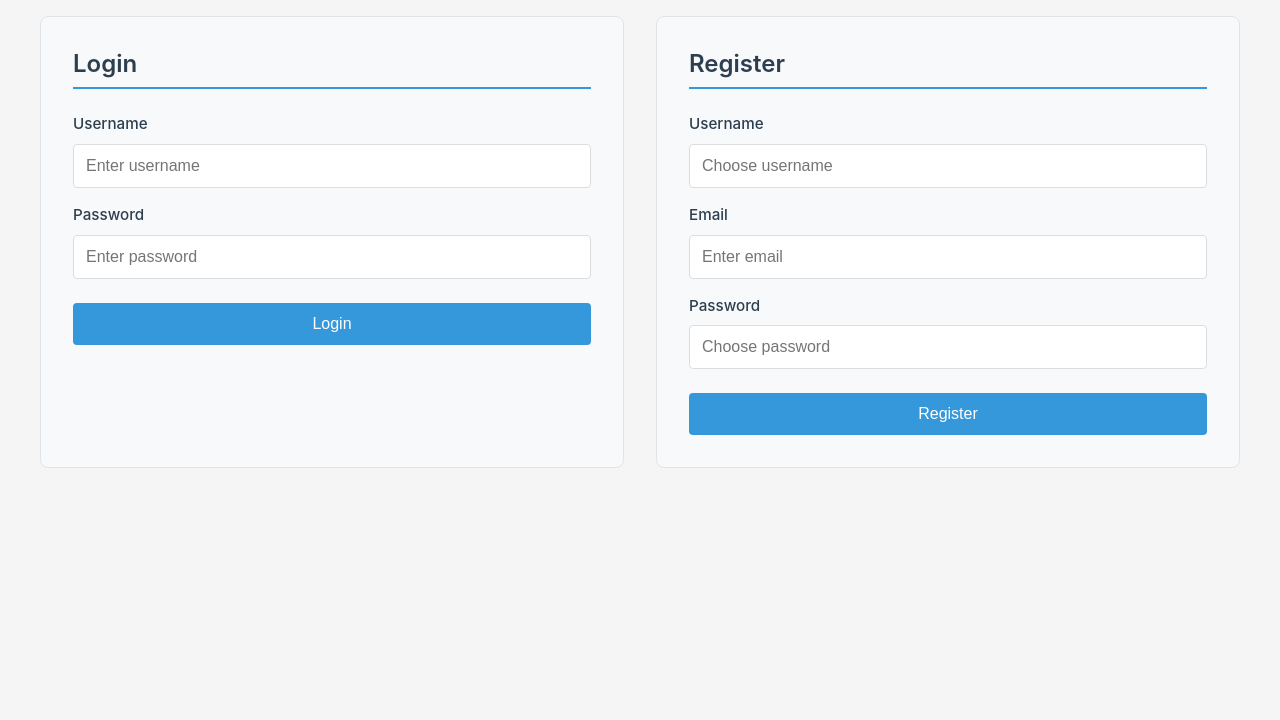
AuthComponent › displays error message on failed registration
Note: Fill in registration form
Type "existinguser" into the field with id "register-username". click: (948, 166)
box: [689,144,1207,188]
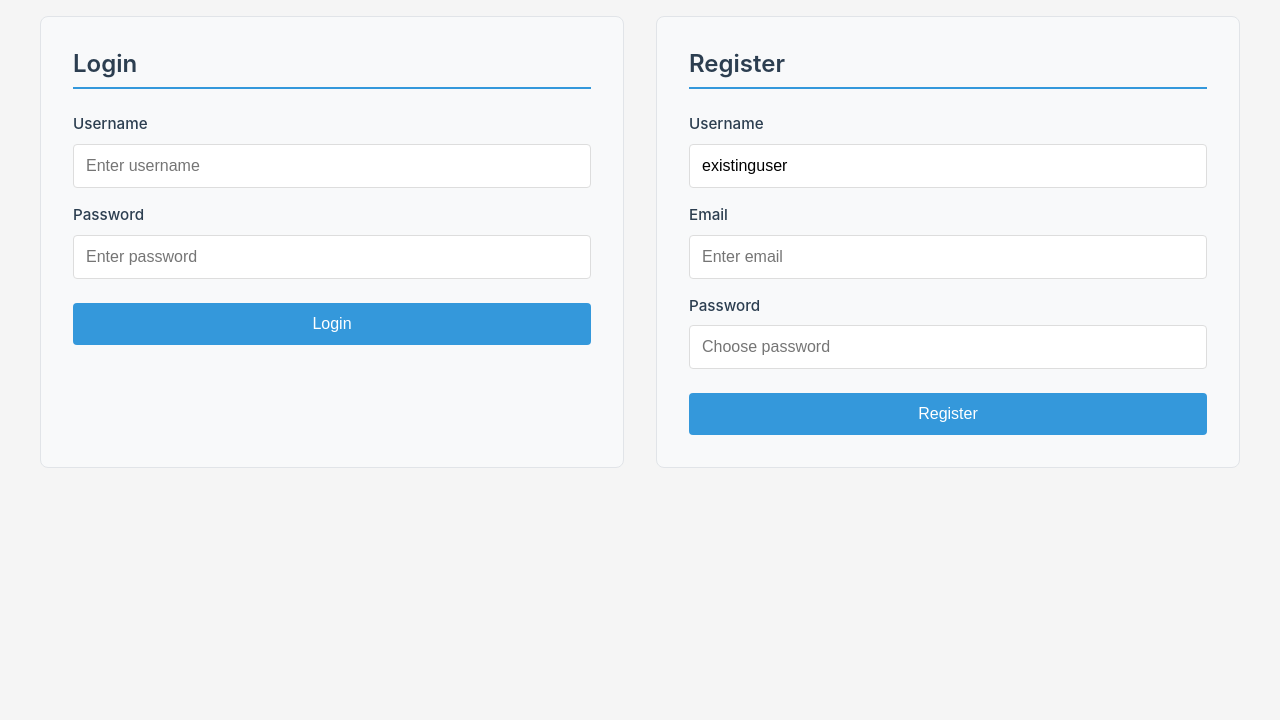
Type "test@example.com" into the field with id "register-email". click: (948, 257)
box: [689,235,1207,279]
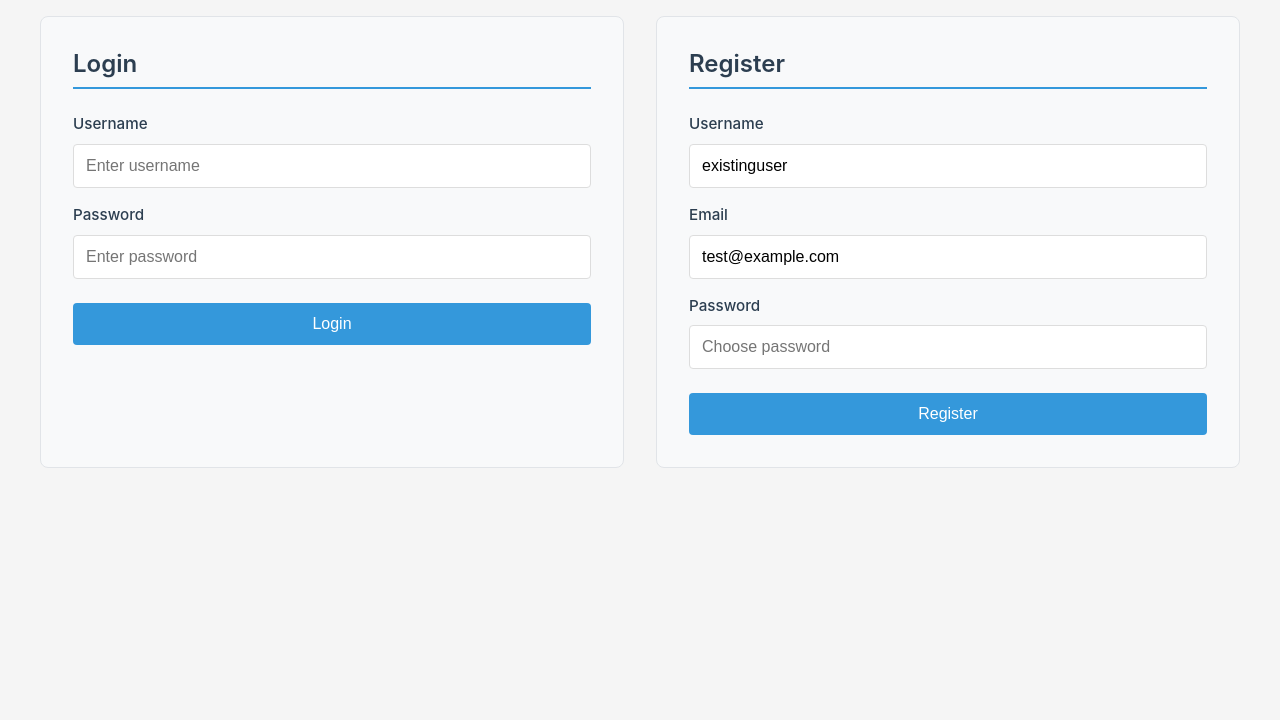
Type "testpass" into the password field with id "register-password". click: (948, 347)
box: [689,325,1207,369]
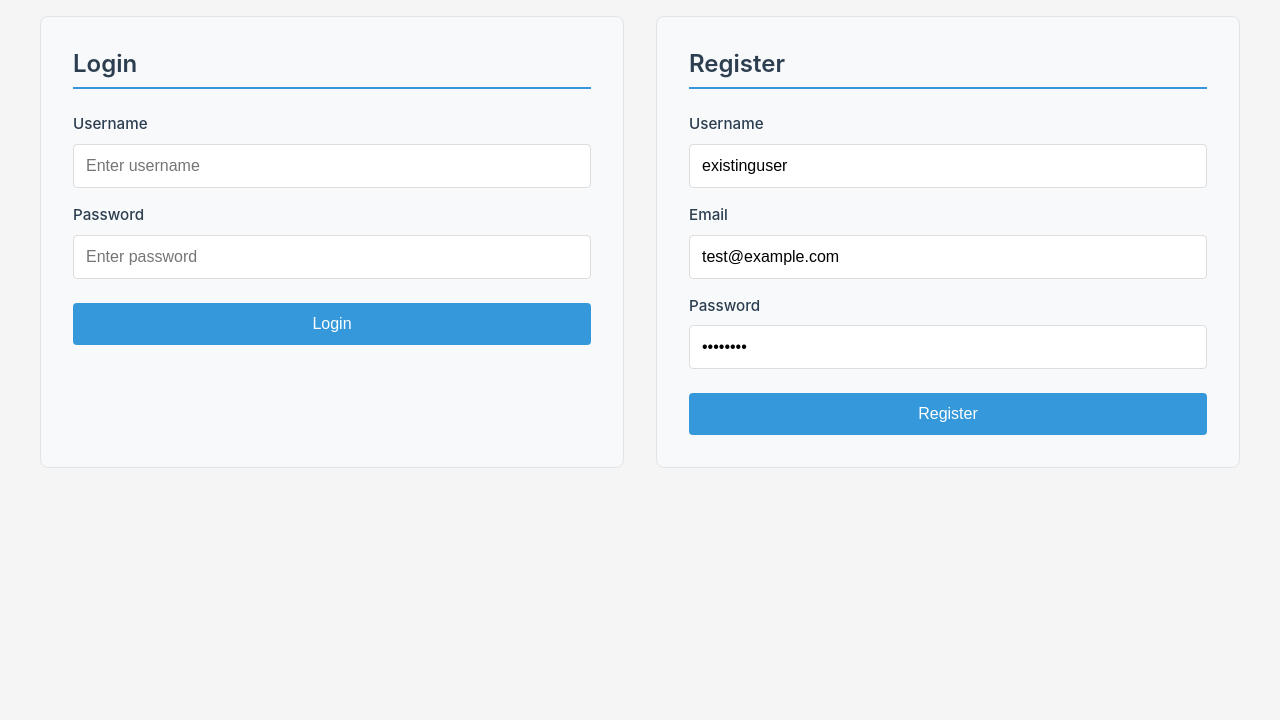
Note: Submit registration form
Submit the 2nd form with class "auth-form", box [689,113,1207,435]
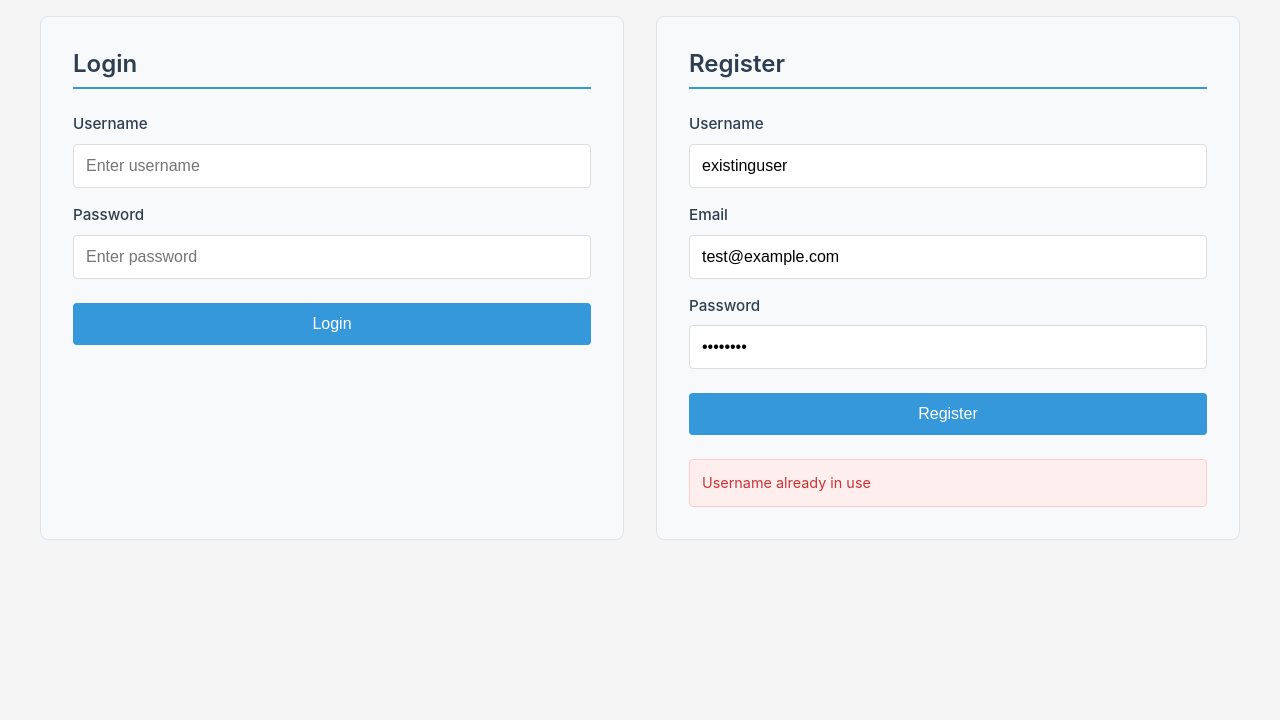
Check: the text "Username already in use" is shown, box [689,459,1207,507]
Check: the text with class "error-message" reads "Username already in use", box [702,474,871,491]
